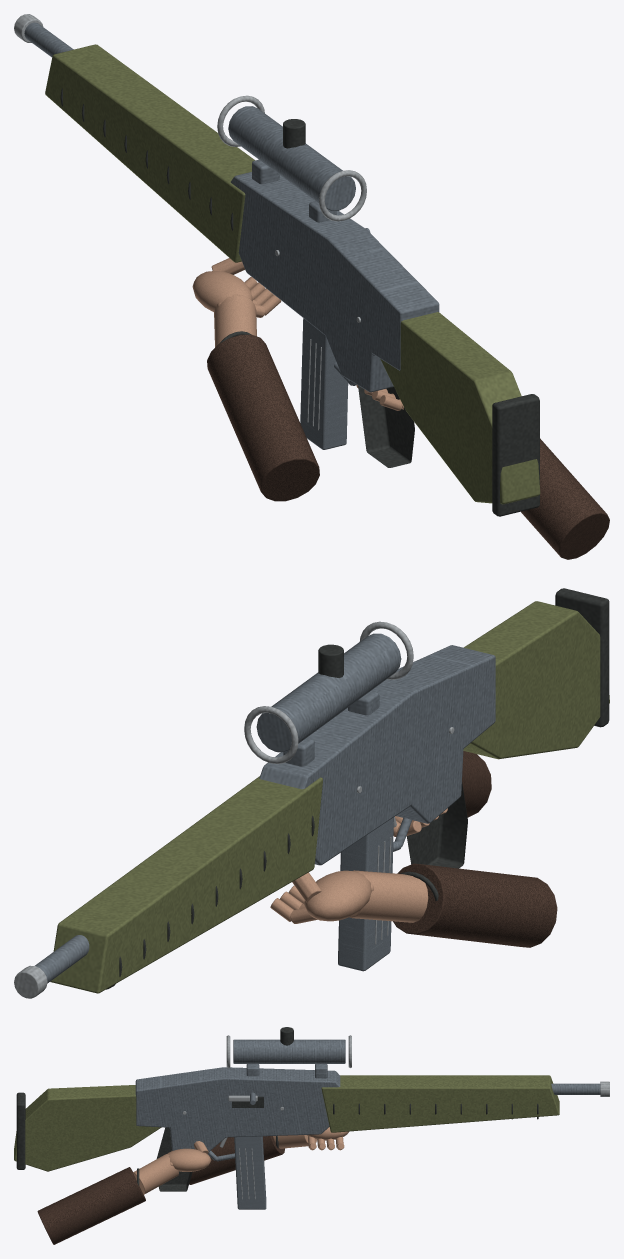
3 views of the same model, one above another, from view 1: azimuth 30°, elevation 25°; view 2: azimuth 150°, elevation 25°; view 3: azimuth 270°, elevation 25° (orthographic). The views are drawn at different scales.
Visible parts, largest first — view 1: l96__BODY, l96__HAND_L, l96__HAND_R, l96__MAGAZINE; view 2: l96__BODY, l96__HAND_L, l96__MAGAZINE, l96__HAND_R; view 3: l96__BODY, l96__HAND_R, l96__HAND_L, l96__MAGAZINE.
Boxes of the visible parts, bbox=[...] form: l96__BODY: bbox=[14, 14, 540, 516]; l96__HAND_L: bbox=[192, 258, 319, 501]; l96__HAND_R: bbox=[356, 385, 609, 559]; l96__MAGAZINE: bbox=[300, 318, 348, 449]; l96__BODY: bbox=[14, 588, 609, 998]; l96__HAND_L: bbox=[270, 863, 557, 947]; l96__MAGAZINE: bbox=[338, 817, 393, 971]; l96__HAND_R: bbox=[393, 751, 491, 836]; l96__BODY: bbox=[14, 1027, 609, 1191]; l96__HAND_R: bbox=[37, 1141, 211, 1244]; l96__HAND_L: bbox=[189, 1127, 348, 1184]; l96__MAGAZINE: bbox=[234, 1136, 266, 1209].
Size of the model in its own units: 0.3294 by 0.4251 by 1.22.
Materials: 6 (6 with a texture image).
